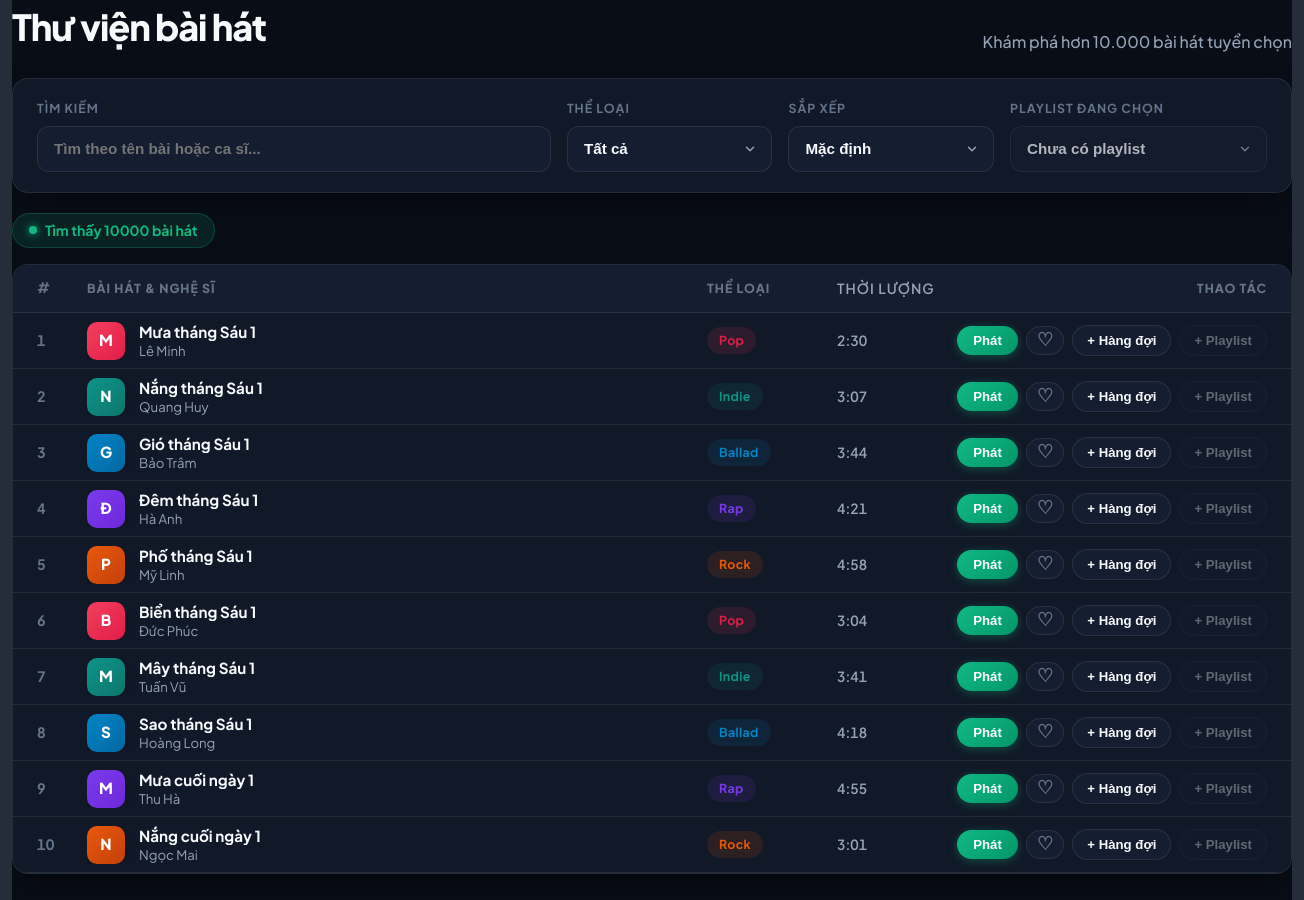
Scenario: LibraryPage › tìm kiếm theo tên có debounce 300ms
In the field labelled "Tìm kiếm": (294, 149) [37,126,551,172], type "mưa"
Wait 300 ms
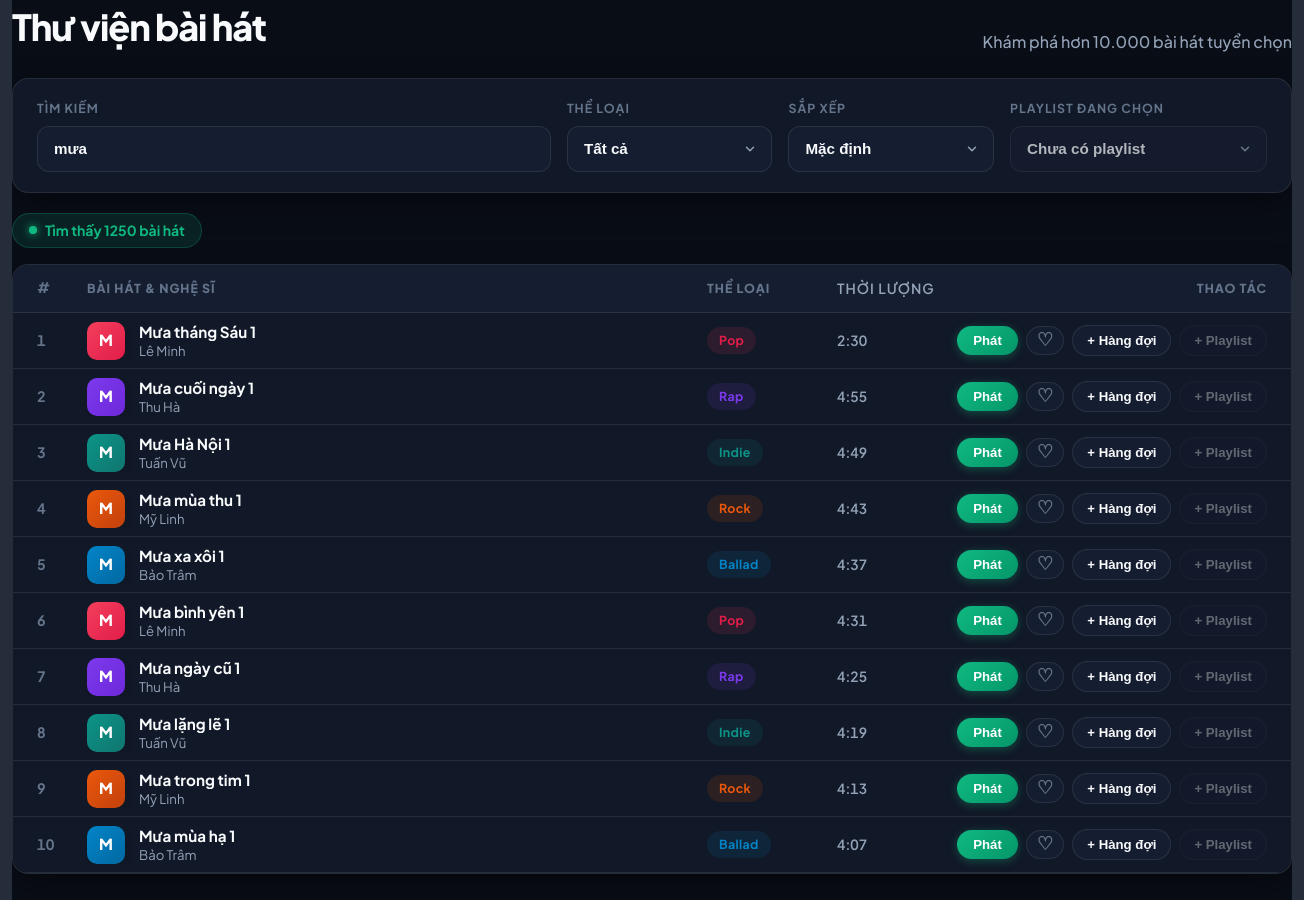
Expected: the text "Tìm thấy 1250 bài hát" is shown, [12,213,202,248]
